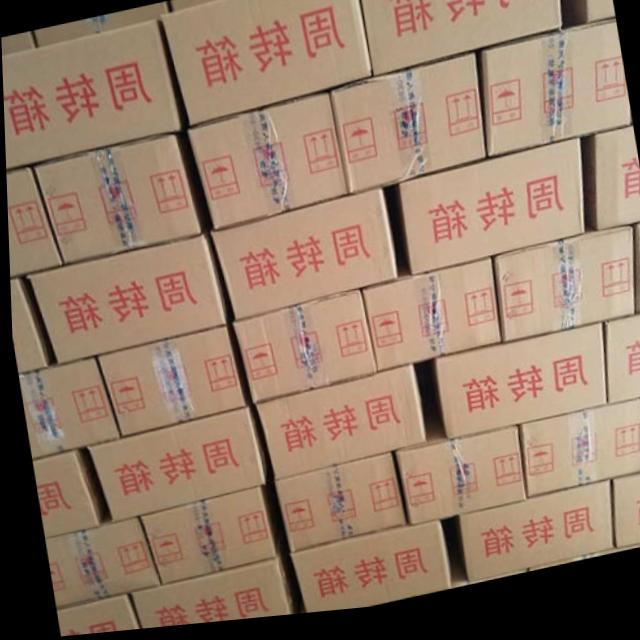box: (160, 0, 371, 129), (2, 23, 180, 170), (395, 149, 583, 284), (26, 239, 226, 365), (209, 194, 396, 325), (31, 136, 200, 266), (186, 99, 346, 235), (330, 61, 484, 200), (481, 29, 629, 167), (251, 370, 423, 486), (431, 334, 603, 449), (84, 412, 260, 524), (359, 0, 562, 84), (93, 330, 243, 439), (230, 296, 373, 409), (125, 537, 296, 631), (492, 238, 633, 351), (358, 266, 497, 379), (454, 491, 608, 590), (286, 528, 447, 618), (391, 425, 521, 535), (134, 491, 271, 587), (270, 460, 402, 557), (516, 410, 640, 507), (40, 520, 156, 609), (15, 359, 116, 461), (29, 447, 103, 539), (579, 137, 640, 242), (5, 167, 60, 278), (34, 5, 165, 46), (8, 277, 50, 374), (51, 594, 134, 637), (603, 326, 640, 417), (607, 484, 640, 560), (561, 0, 615, 35), (170, 0, 231, 15), (1, 32, 33, 56), (633, 235, 640, 327)
